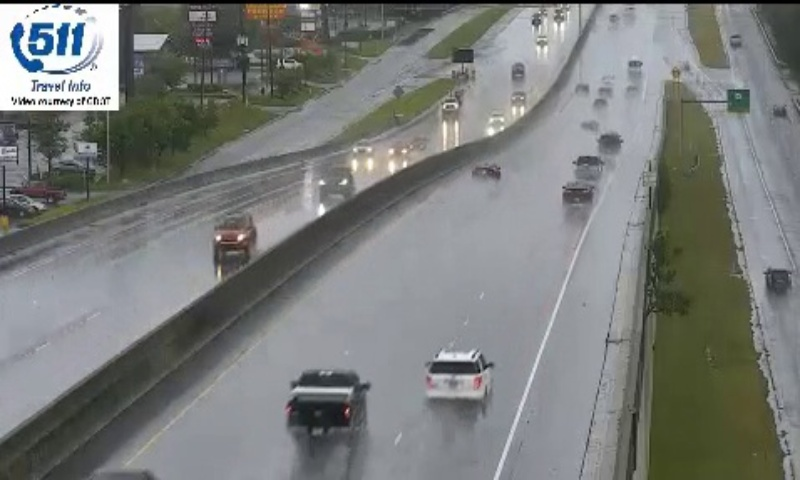car: (289, 369, 366, 438), (425, 350, 492, 403), (561, 180, 593, 207), (574, 154, 604, 179), (471, 161, 501, 179)
